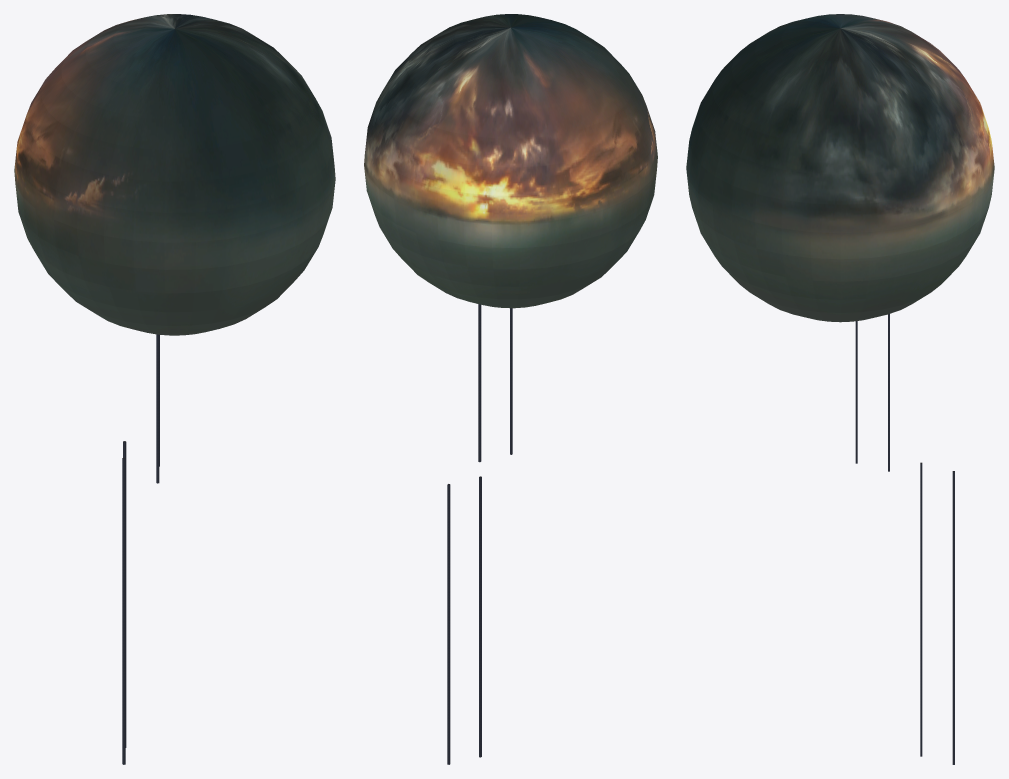
File: bhop.glb
The picture shows the model from 3 angles, left to right: view 1: azimuth 30°, elevation 25°; view 2: azimuth 150°, elevation 25°; view 3: azimuth 270°, elevation 25°; orthographic projection. The views are drawn at different scales.
Visible parts, largest first — view 1: Sphere, Pillar.003, Pillar.002, Pillar; view 2: Sphere, Pillar.002, Pillar.003, Pillar.001; view 3: Sphere, Pillar.003, Pillar.002.
Part boxes in pixels (x1,y1,x2,y2): Sphere: (14, 14, 335, 335); Pillar.003: (122, 457, 125, 764); Pillar.002: (123, 441, 126, 747); Pillar: (156, 334, 159, 483); Sphere: (364, 14, 657, 308); Pillar.002: (447, 484, 450, 764); Pillar.003: (479, 476, 481, 757); Pillar.001: (478, 304, 481, 462); Sphere: (686, 14, 994, 322); Pillar.003: (920, 462, 922, 756); Pillar.002: (952, 471, 954, 764).
Bounding box in the file's own units: 95.35 × 250 × 95.35.
Materials: 7 (7 with a texture image).
